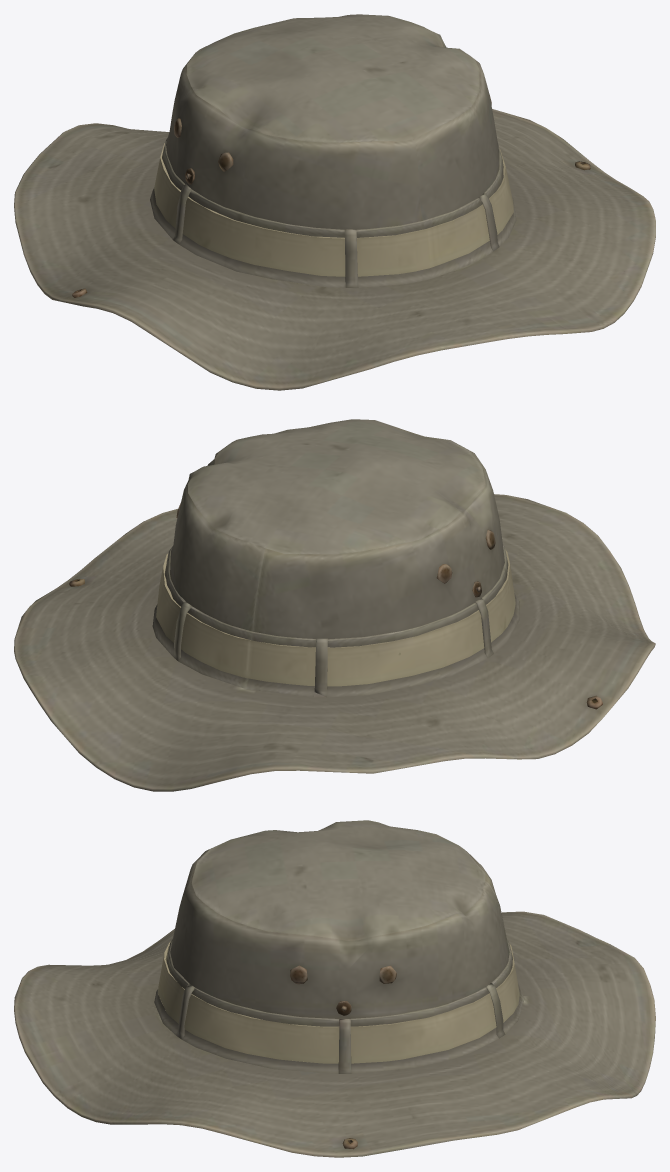
The model's file is fishermans_hat.glb.
The picture shows the model from 3 angles, top to bottom: view 1: azimuth 30°, elevation 25°; view 2: azimuth 150°, elevation 25°; view 3: azimuth 270°, elevation 25°; orthographic projection. The views are drawn at different scales.
Parts seen in each view (by area): view 1: fishermans_hat; view 2: fishermans_hat; view 3: fishermans_hat.
Part boxes in pixels (box(x1,y1,x2,y2)): fishermans_hat: box(14, 14, 655, 390); fishermans_hat: box(14, 419, 655, 791); fishermans_hat: box(14, 820, 655, 1157).
Size of the model in its own units: 0.3234 by 0.1239 by 0.35.
Materials: 1 (1 with a texture image).
